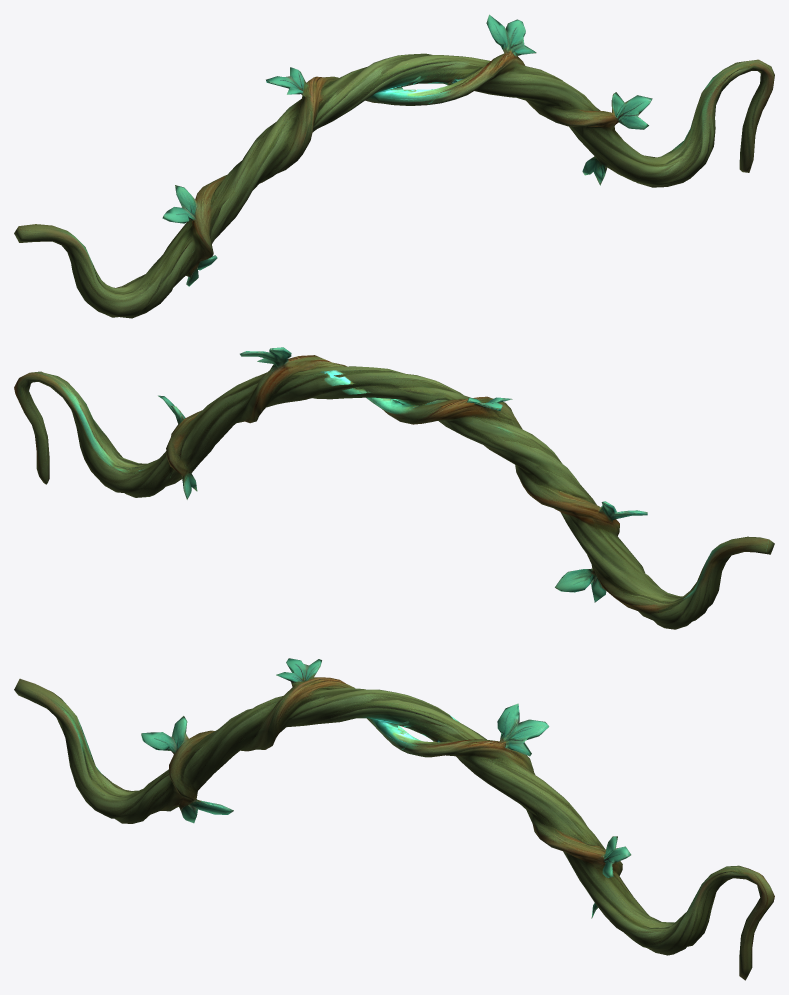
3 renders of one model, top to bottom at view 1: azimuth 30°, elevation 25°; view 2: azimuth 150°, elevation 25°; view 3: azimuth 330°, elevation 25°, orthographic.
Visible parts, largest first — view 1: Mesh_0; view 2: Mesh_0; view 3: Mesh_0.
Part boxes in pixels (x1,y1,x2,y2): Mesh_0: (14,14,774,318); Mesh_0: (14,347,774,629); Mesh_0: (14,658,774,980).
Size of the model in its own units: 1.91 by 0.4977 by 0.1563.
1 material, 1 textured.
